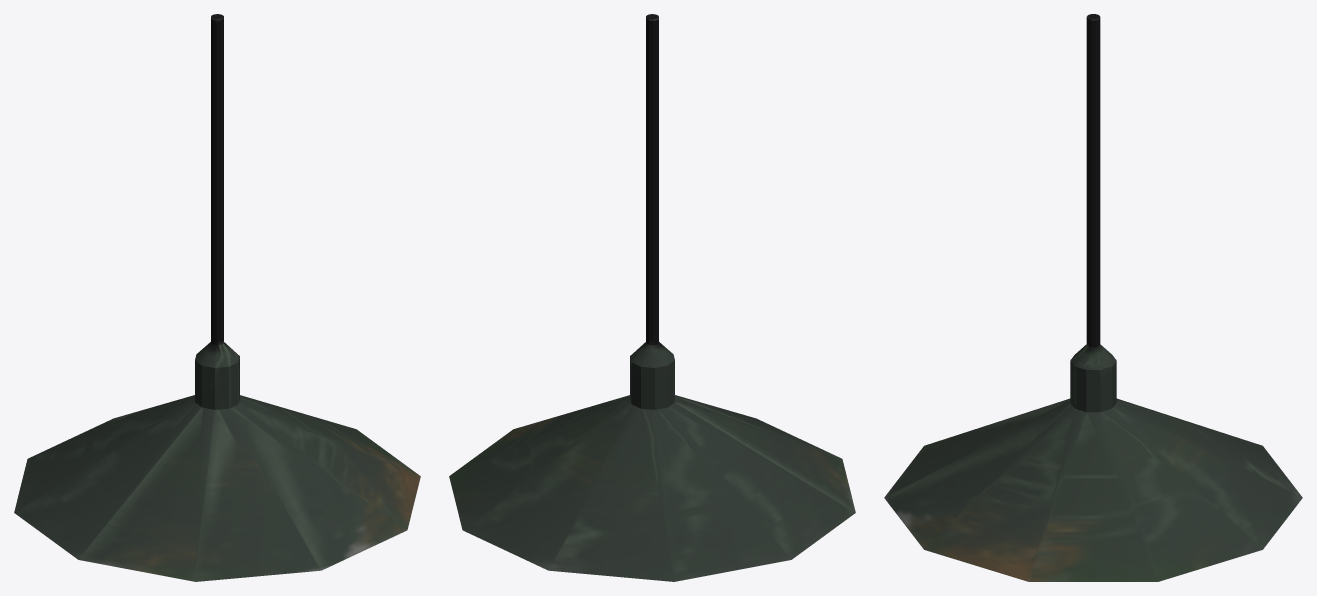
The model's file is lamp (1).fbx.
The picture shows the model from 3 angles, left to right: view 1: azimuth 30°, elevation 25°; view 2: azimuth 150°, elevation 25°; view 3: azimuth 270°, elevation 25°; orthographic projection.
Parts seen in each view (by area): view 1: Cylinder; view 2: Cylinder; view 3: Cylinder.
Part boxes in pixels (bbox=[...]): Cylinder: bbox=[14, 14, 420, 581]; Cylinder: bbox=[449, 14, 855, 581]; Cylinder: bbox=[884, 14, 1302, 581].
Size of the model in its own units: 74.85 by 99.92 by 78.71.
1 material, 1 textured.
